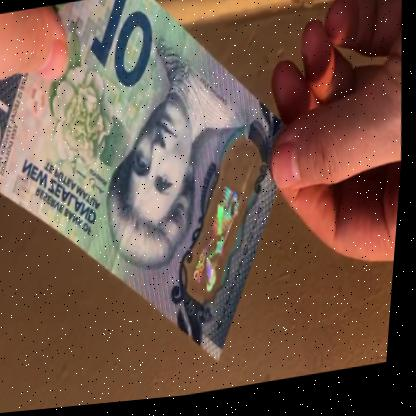10B: (184, 184, 257, 304)
